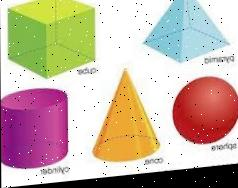cube: (6, 0, 95, 84)
